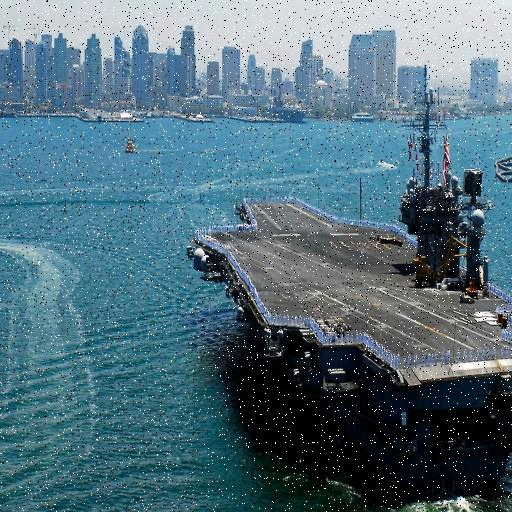Portanaves: (184, 62, 512, 472)
